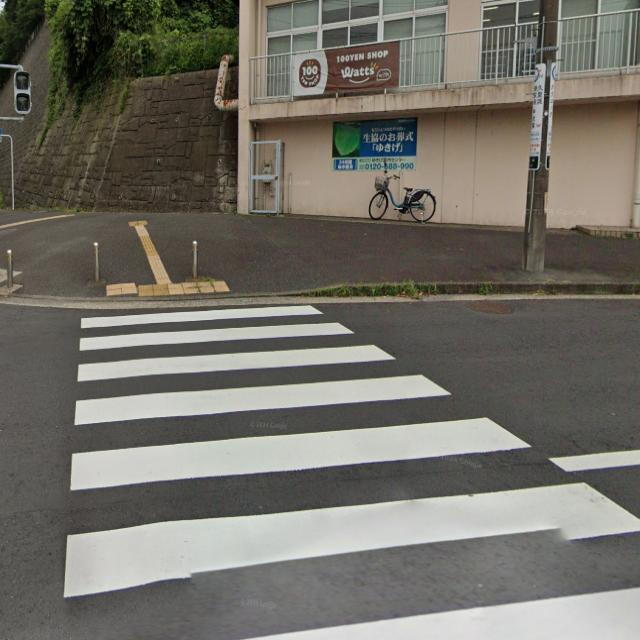traffic-light: (12, 66, 34, 114)
